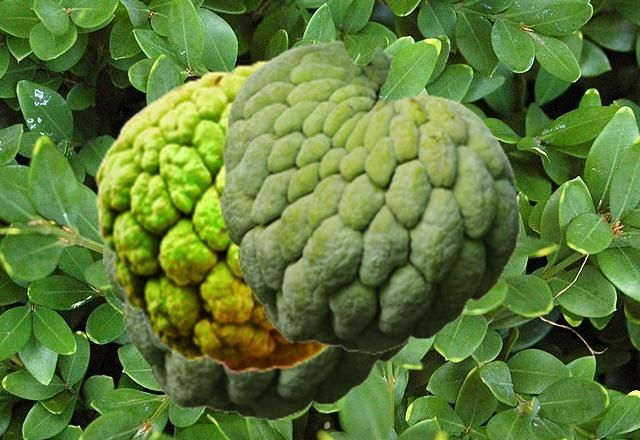atis: (103, 76, 414, 420), (220, 39, 519, 353), (94, 59, 332, 373)
